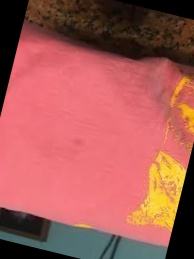oil: (63, 134, 89, 160)
